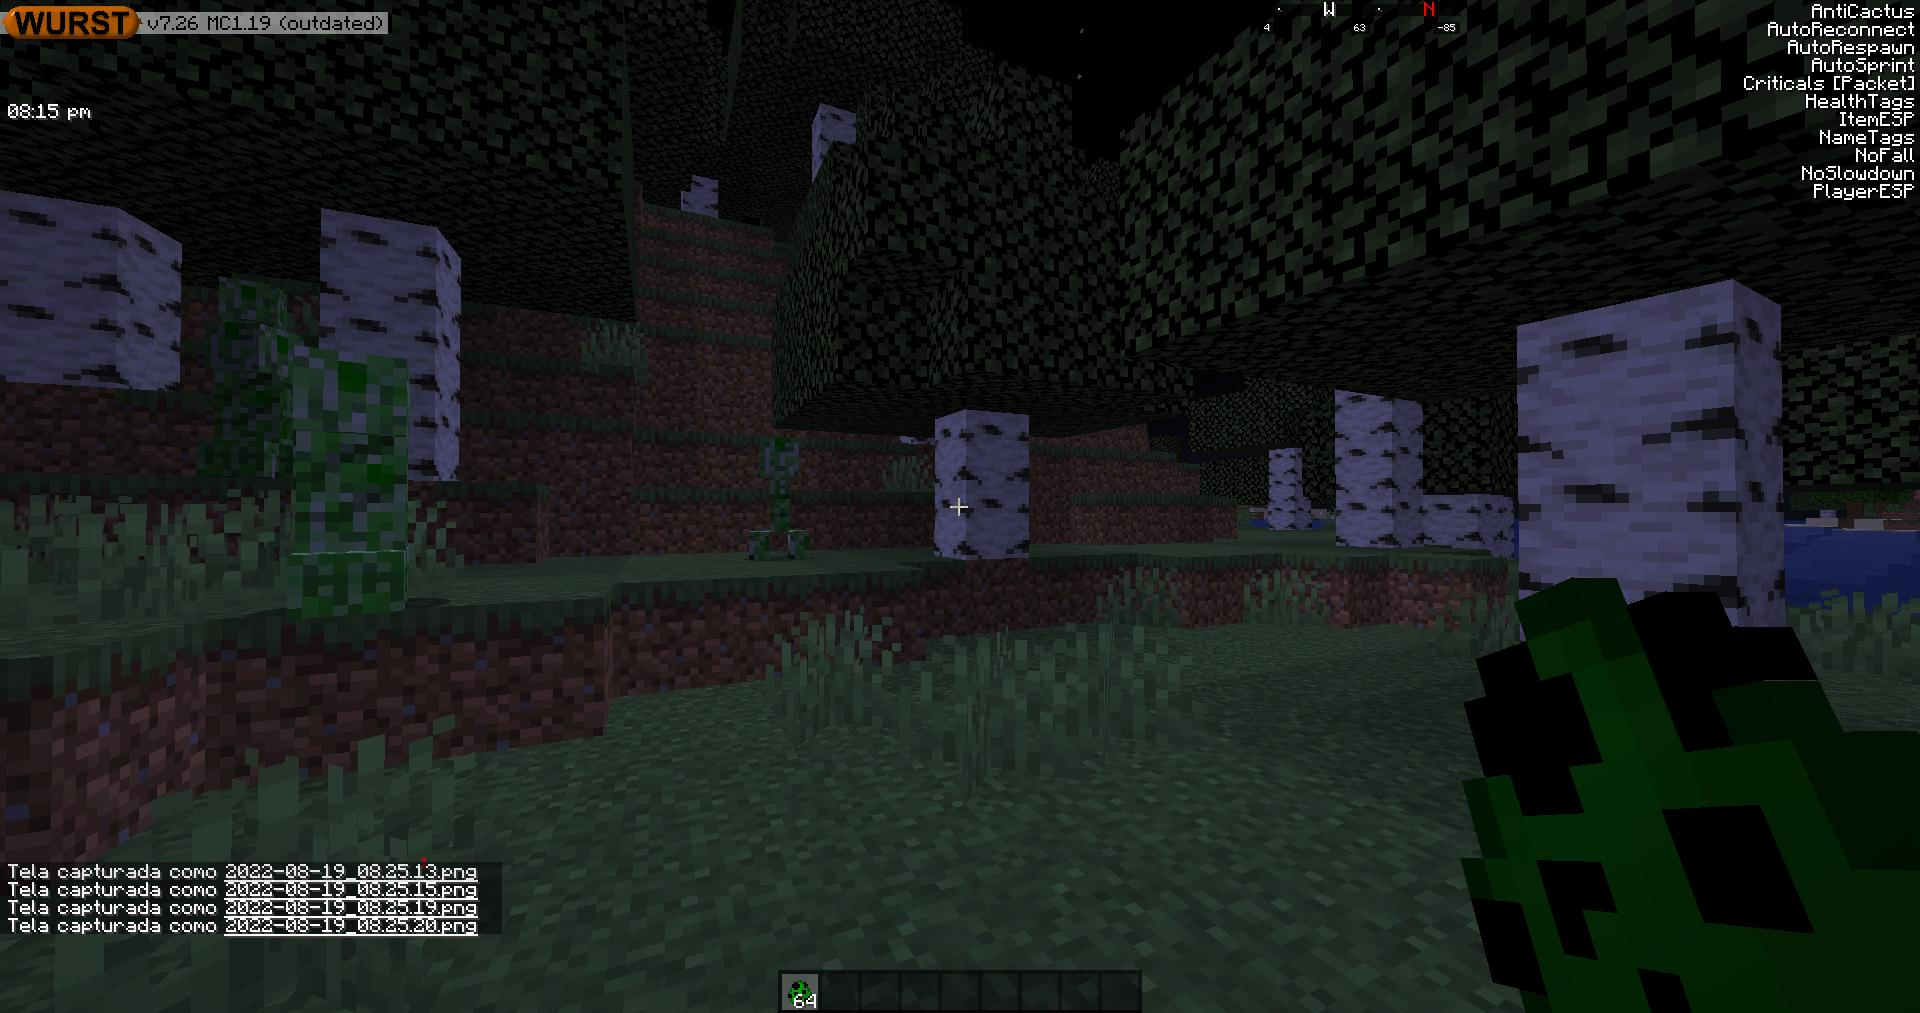creeper: (293, 355, 403, 611), (222, 326, 286, 477), (745, 430, 808, 553)
